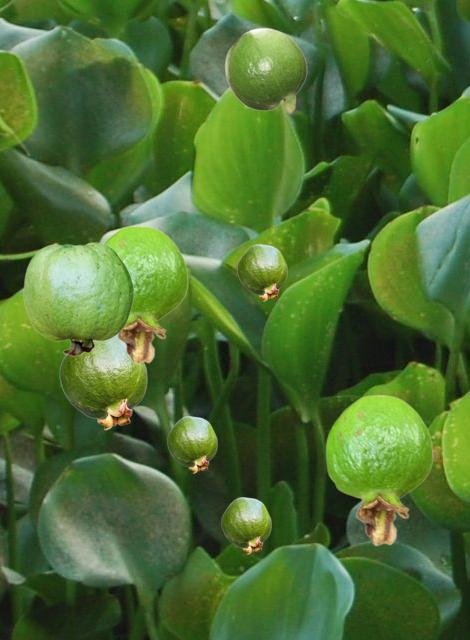guava: (325, 394, 432, 545), (23, 242, 133, 355), (104, 225, 187, 363), (59, 337, 146, 429), (224, 27, 306, 113), (237, 244, 286, 300), (221, 497, 270, 553), (167, 416, 216, 472)
